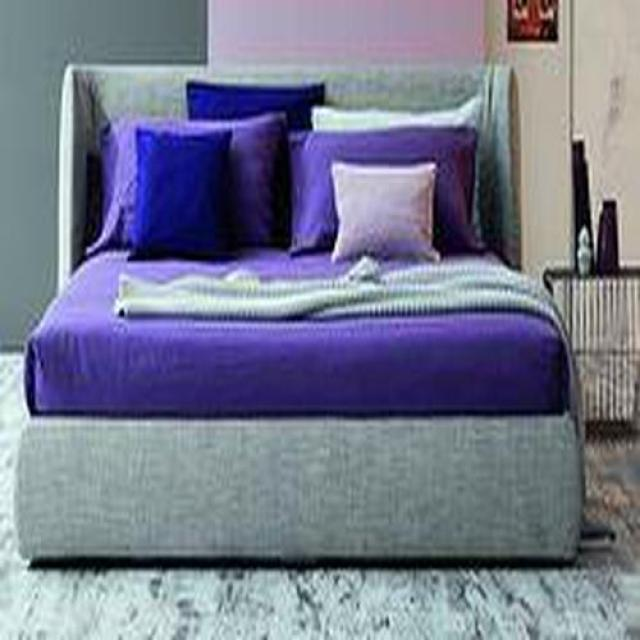bed: (18, 63, 584, 570)
